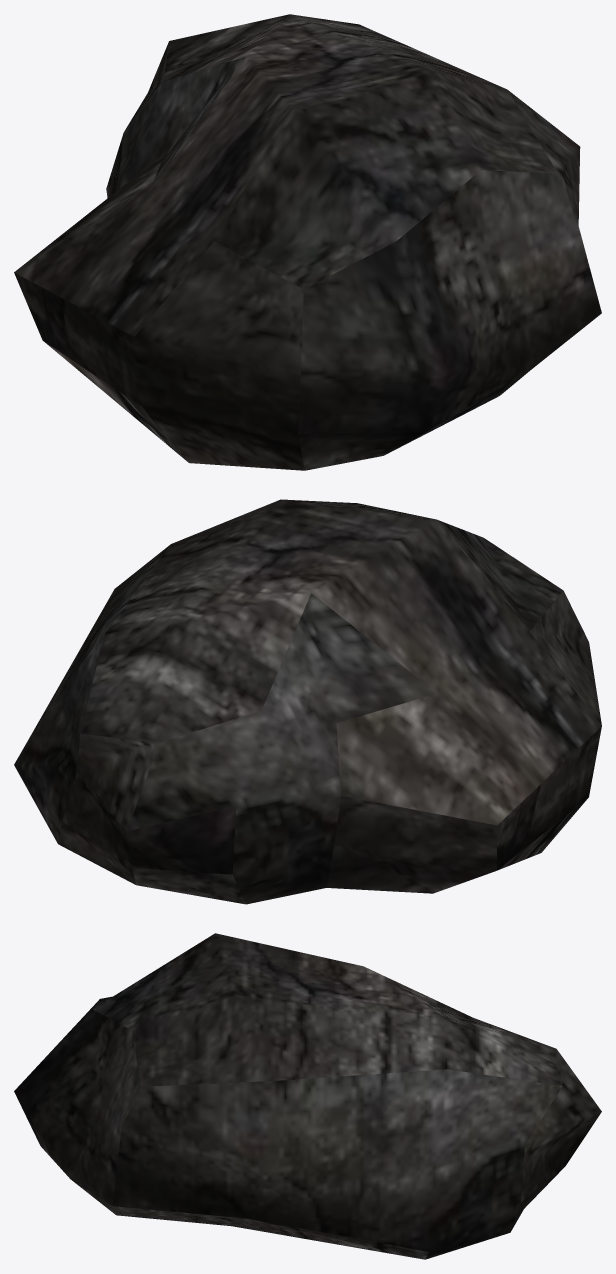
File: Rock 4.glb
3 renders of one model, top to bottom at view 1: azimuth 30°, elevation 25°; view 2: azimuth 150°, elevation 25°; view 3: azimuth 270°, elevation 25°, orthographic. The views are drawn at different scales.
Parts seen in each view (by area): view 1: rock_4_low; view 2: rock_4_low; view 3: rock_4_low.
Part boxes in pixels (x1,y1,x2,y2): rock_4_low: (14, 14, 601, 470); rock_4_low: (14, 499, 601, 904); rock_4_low: (14, 933, 601, 1259).
Size of the model in its own units: 0.0889 by 0.0567 by 0.1141.
1 material, 1 textured.
